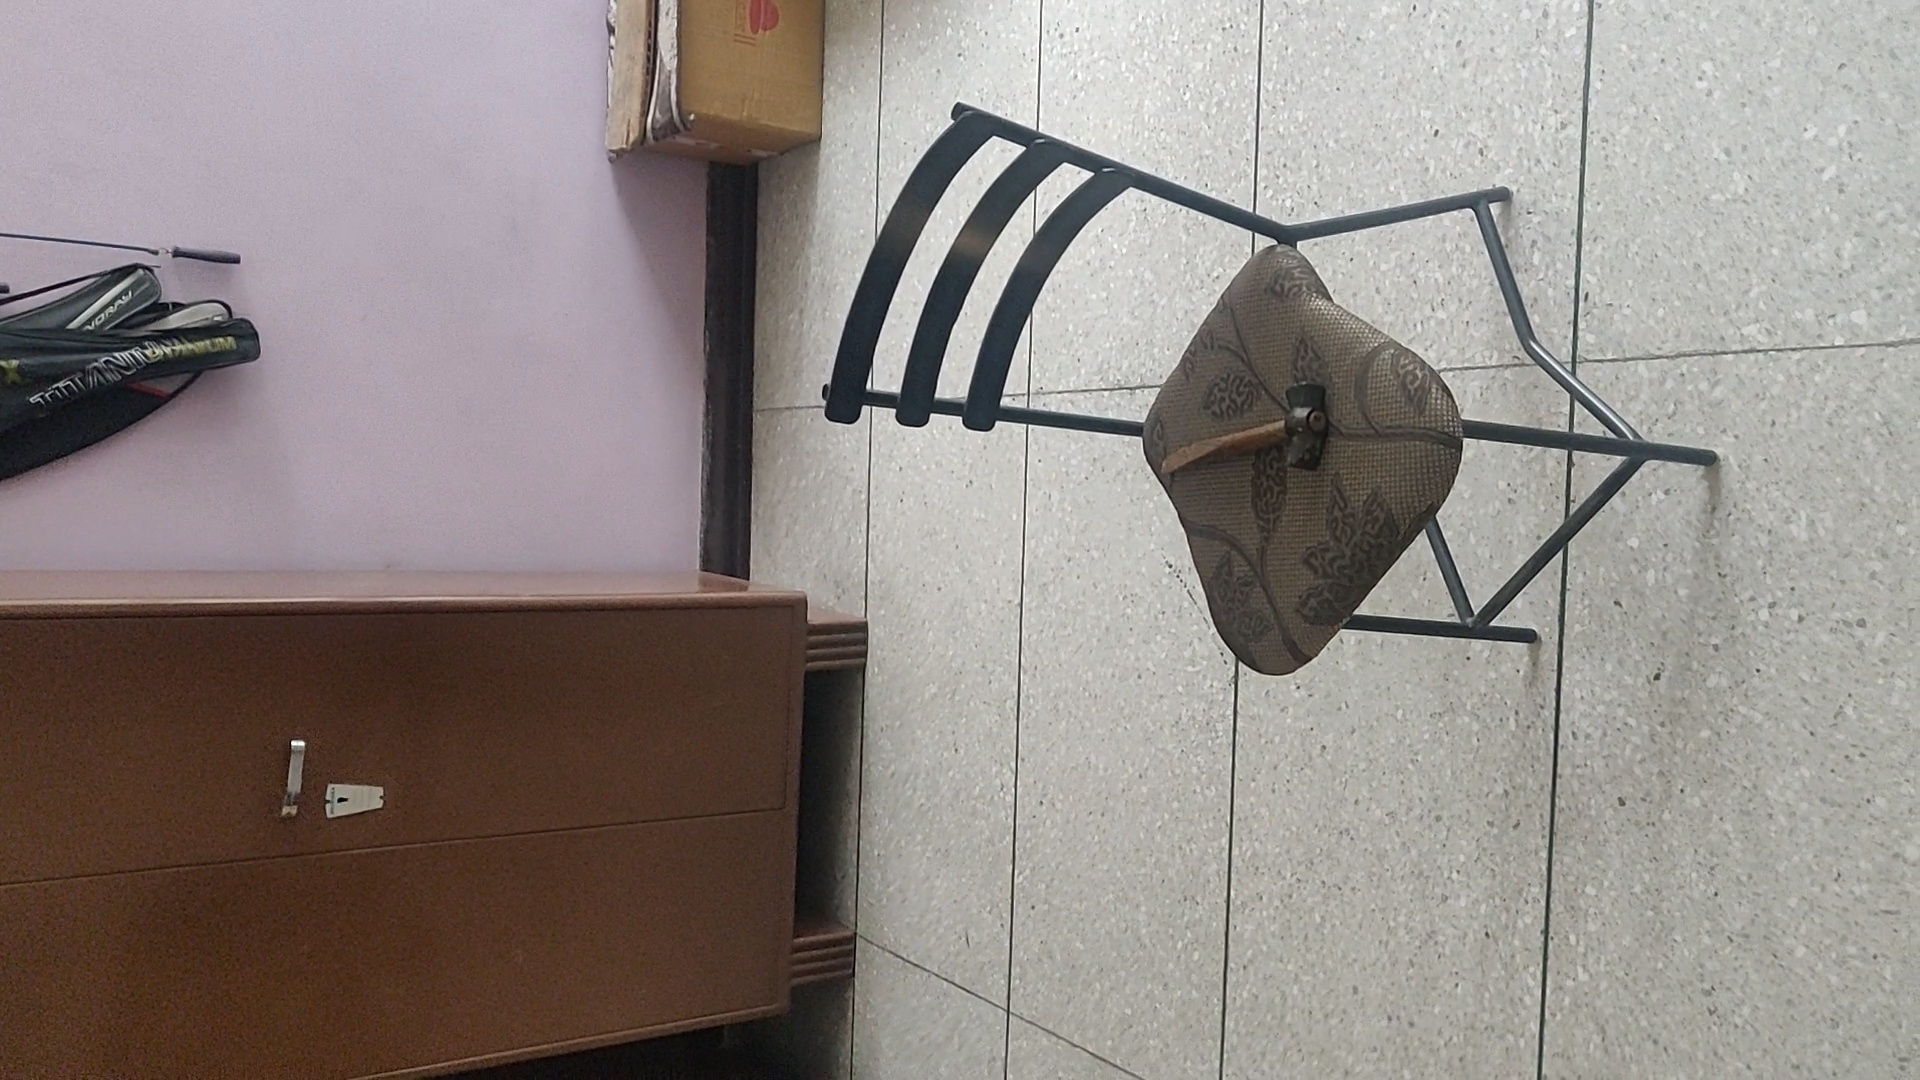hammer: (1156, 377, 1333, 496)
